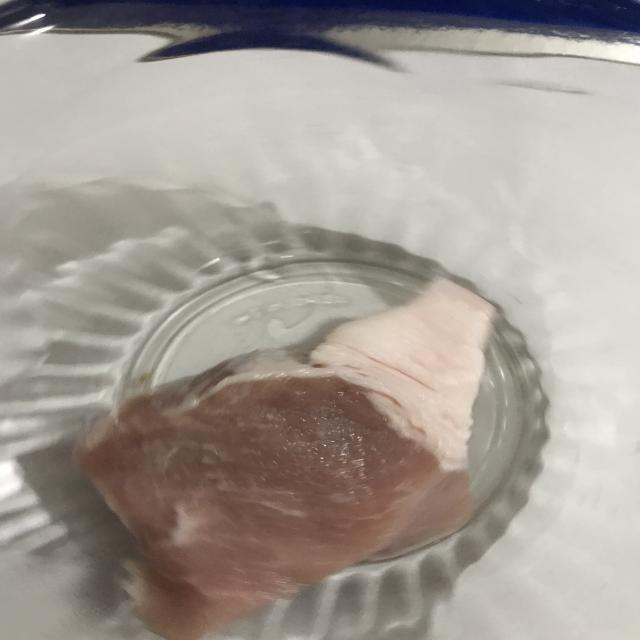chicken: (77, 282, 503, 640)
